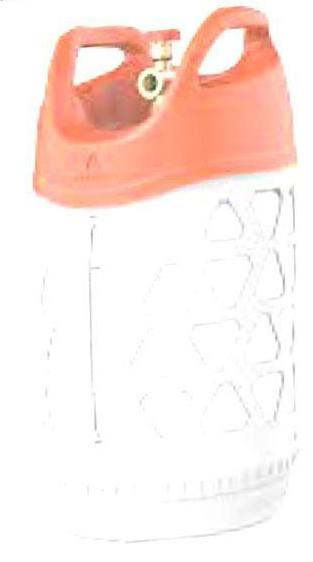cylinder: (1, 0, 313, 562)
